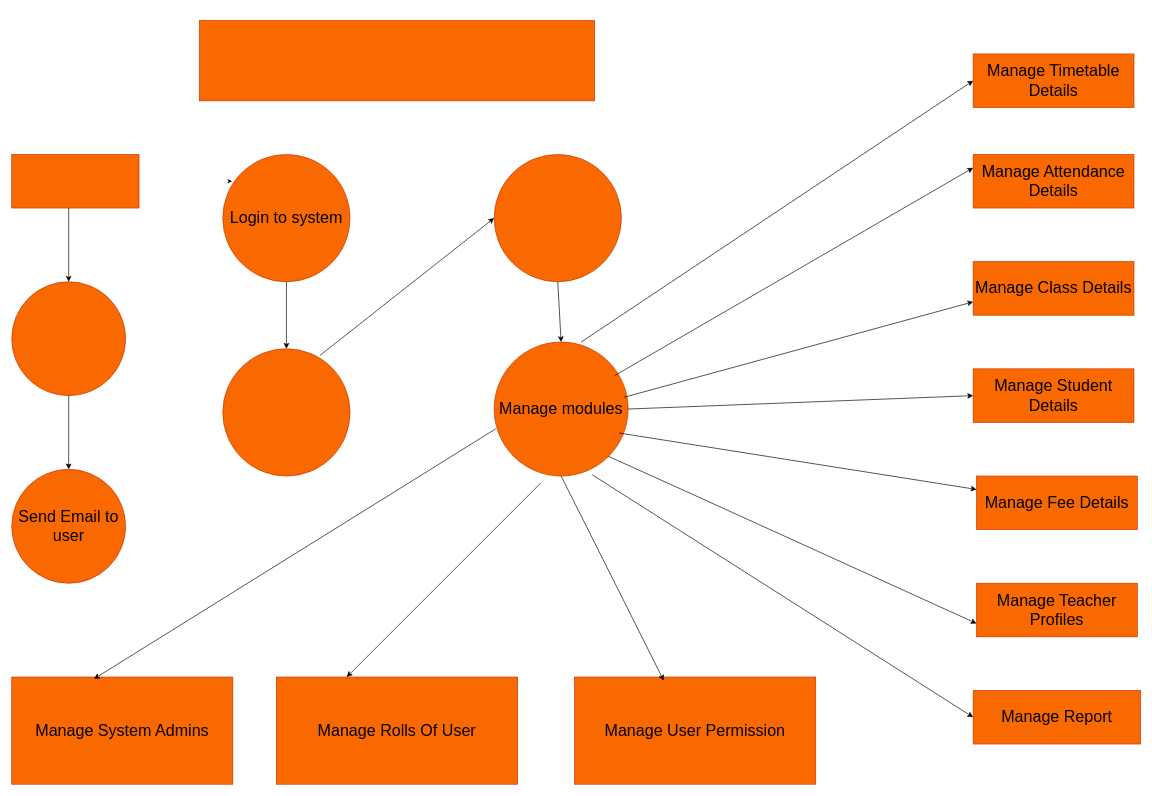
This 1152x796 diagram has some shape labels left out. Here are the shapes that lost their labels. From the top down, the centre of each, then its label:
At (x=397, y=60): "Student Information System".
At (x=75, y=181): "Admin".
At (x=557, y=218): "Check rolls of access".
At (x=68, y=338): "Forgot password".
At (x=286, y=412): "Check credentials".
